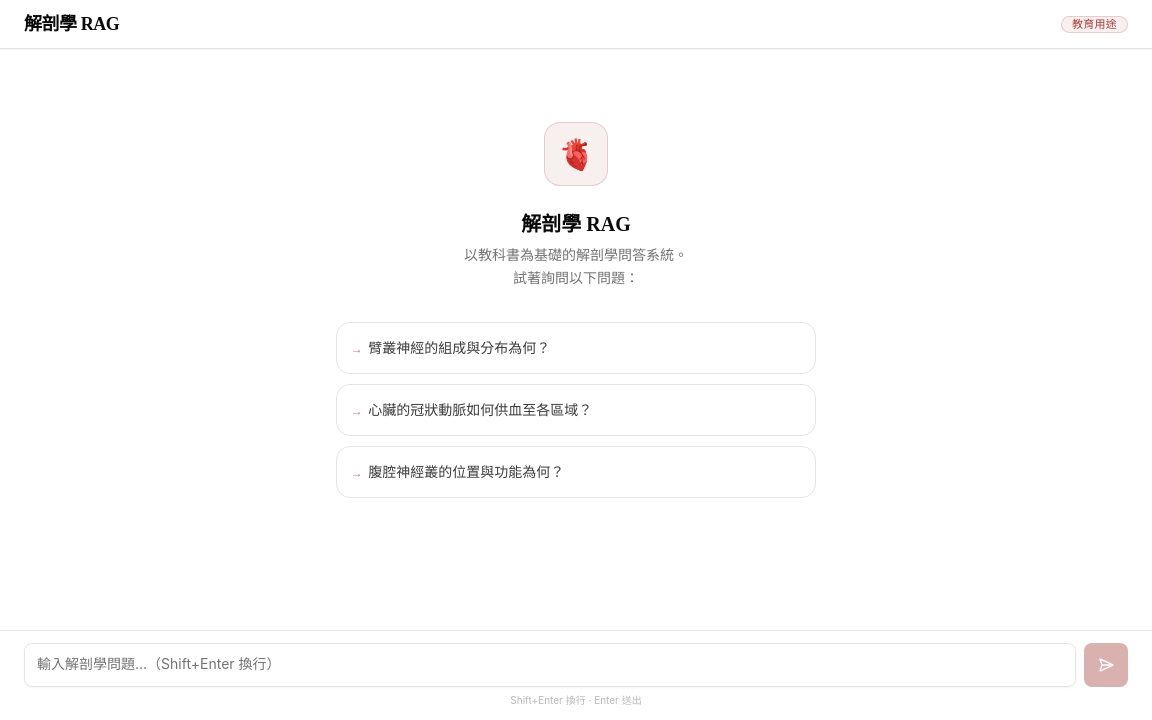
ChatPanel integration › [Pin-verify B] error stream surfaces ErrorState with 重試 button
Note: Submit to trigger the (error) stream
In the text box: [550, 665] box [24, 643, 1076, 687], type "Q"
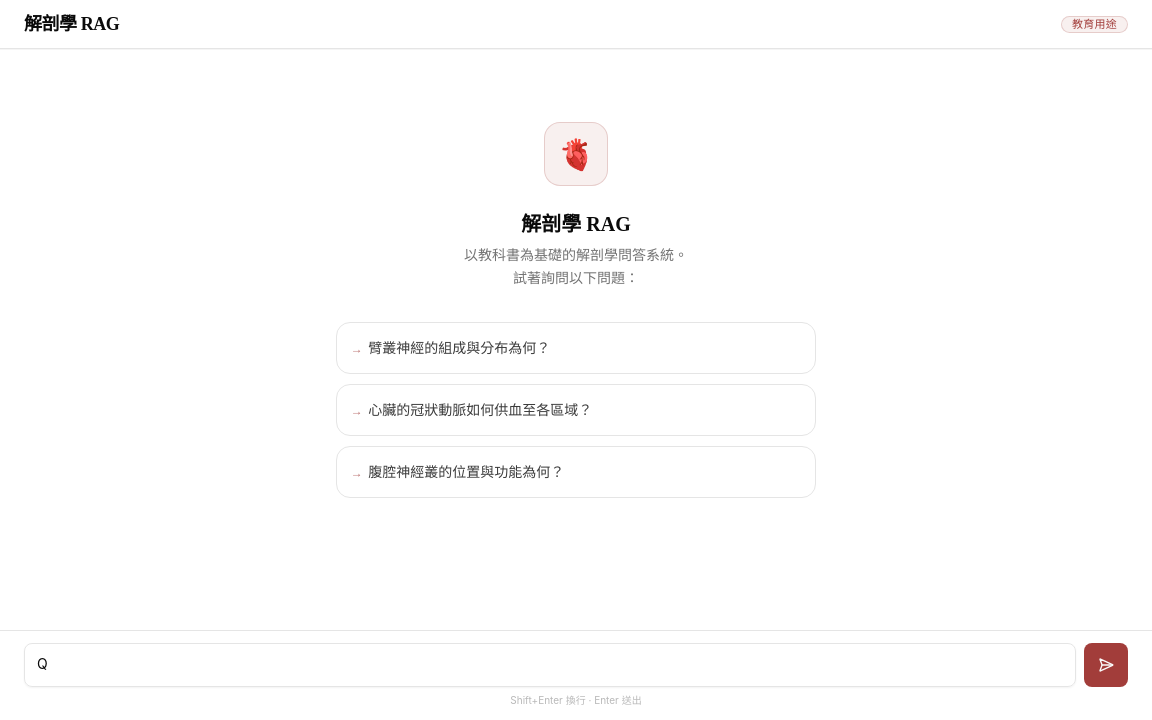
Click the button named "送出": [1106, 665] box [1084, 643, 1128, 687]
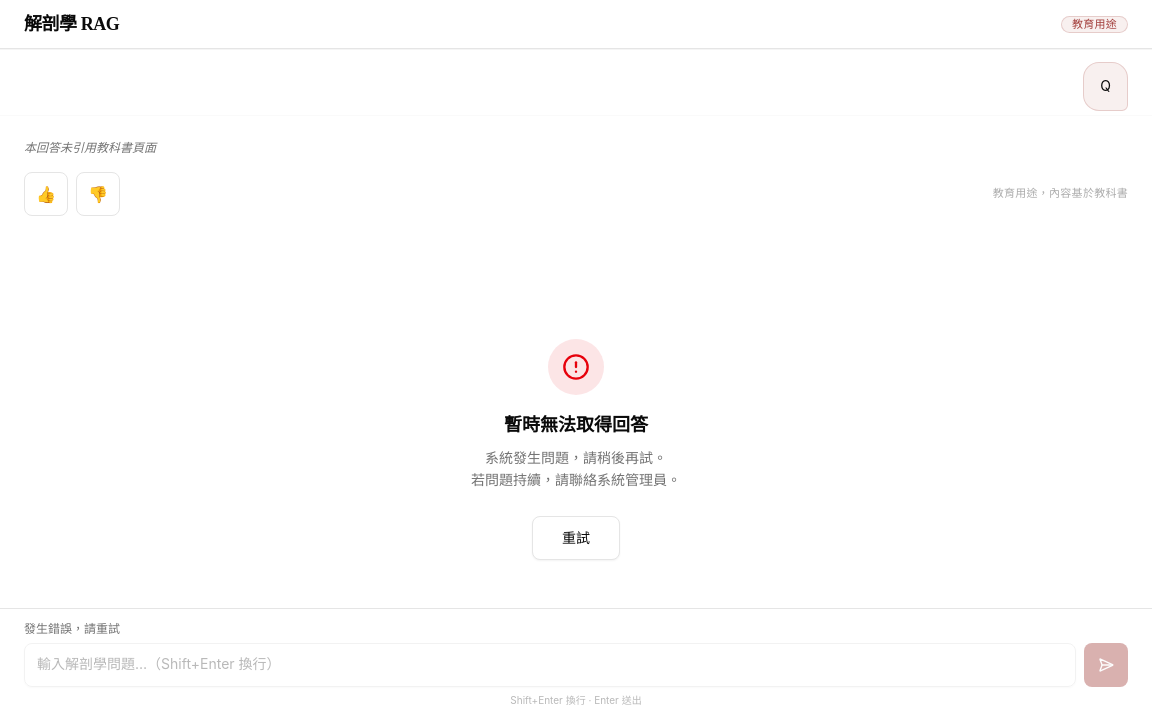
Now the button "重試" is shown, box [532, 516, 620, 560]
Now the heading "暫時無法取得回答" is shown, box [504, 410, 648, 438]
